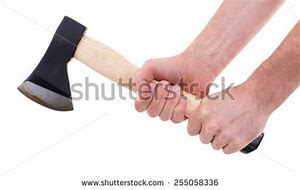axe: (17, 14, 267, 155)
